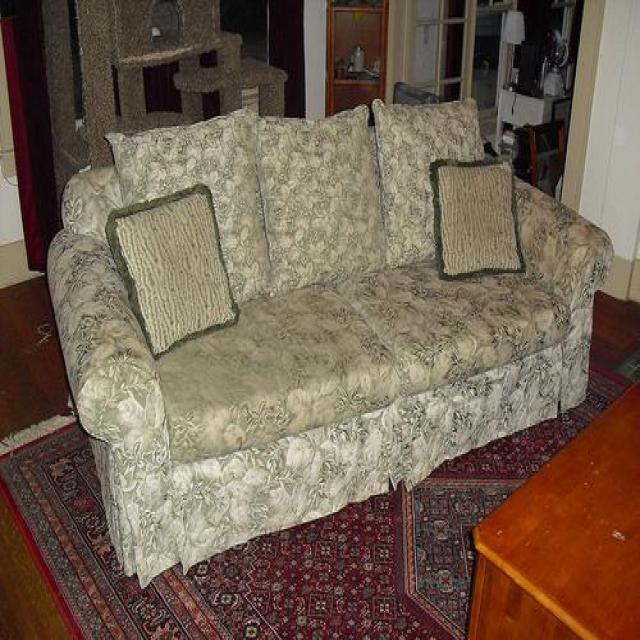sofa: (45, 85, 614, 587)
